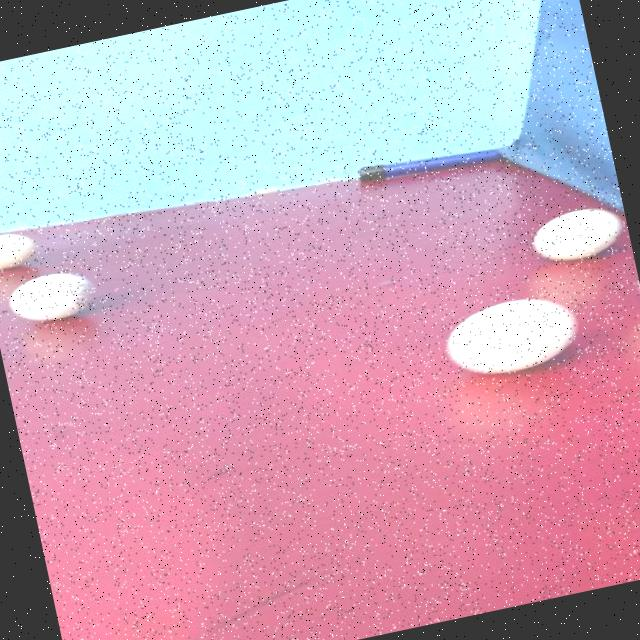ping-pong-ball: (422, 276, 604, 392), (0, 244, 125, 347), (496, 195, 634, 282), (0, 222, 53, 280), (613, 244, 640, 330)
